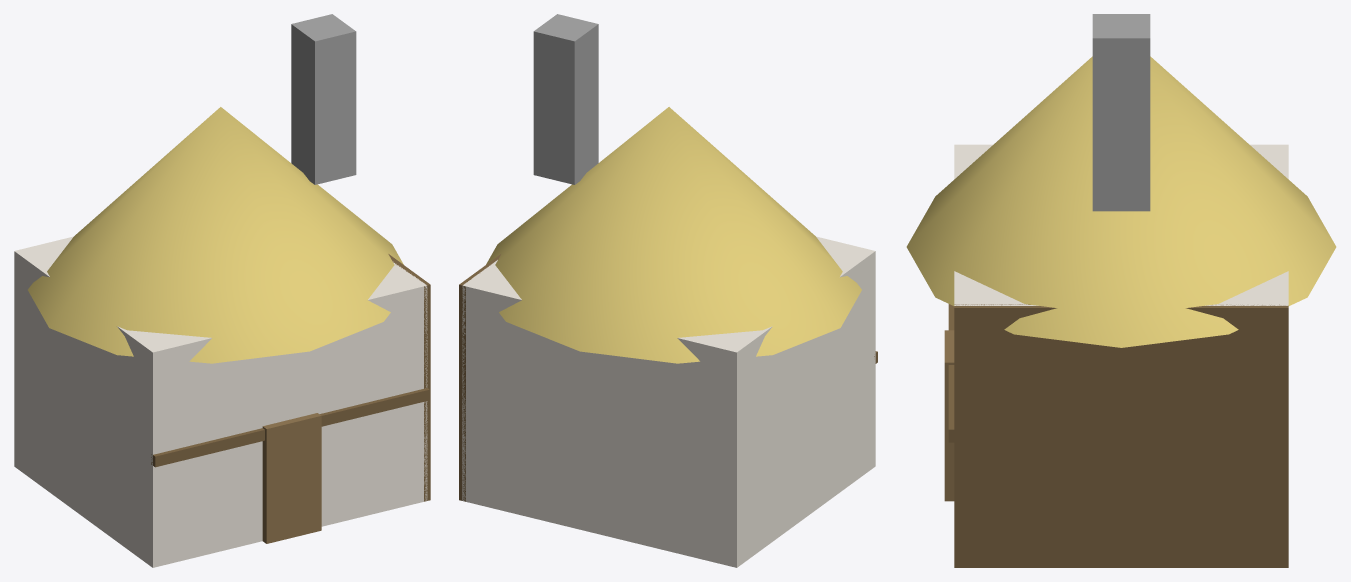
File: env-med-cottage.glb
The picture shows the model from 3 angles, left to right: view 1: azimuth 30°, elevation 25°; view 2: azimuth 150°, elevation 25°; view 3: azimuth 270°, elevation 25°; orthographic projection. The views are drawn at different scales.
Size of the model in its own units: 5 by 6 by 4.5.
